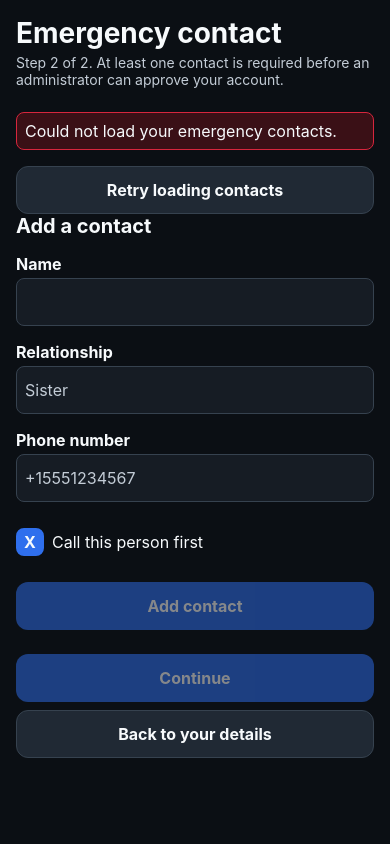
Scenario: emergency contact loading recovery › retries a failed load and enables Continue only after contacts are confirmed
Click the button with test id "contacts-retry" at (195, 190), box [16,166,374,214]
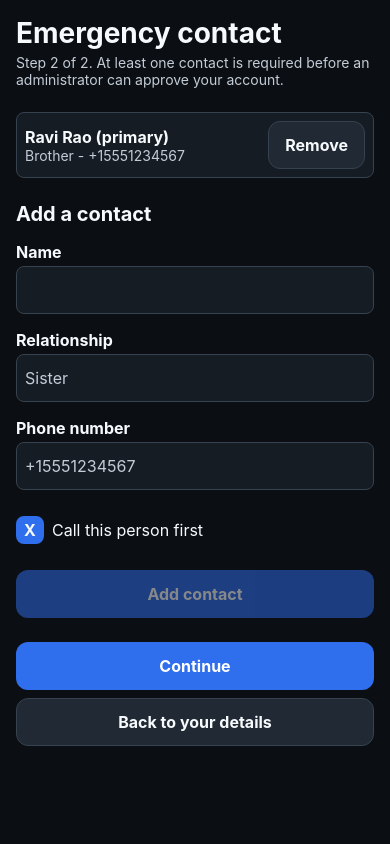
Check: the button with test id "contacts-continue" is enabled, box [16,642,374,690]
Check: the message with test id "contacts-error" is gone
